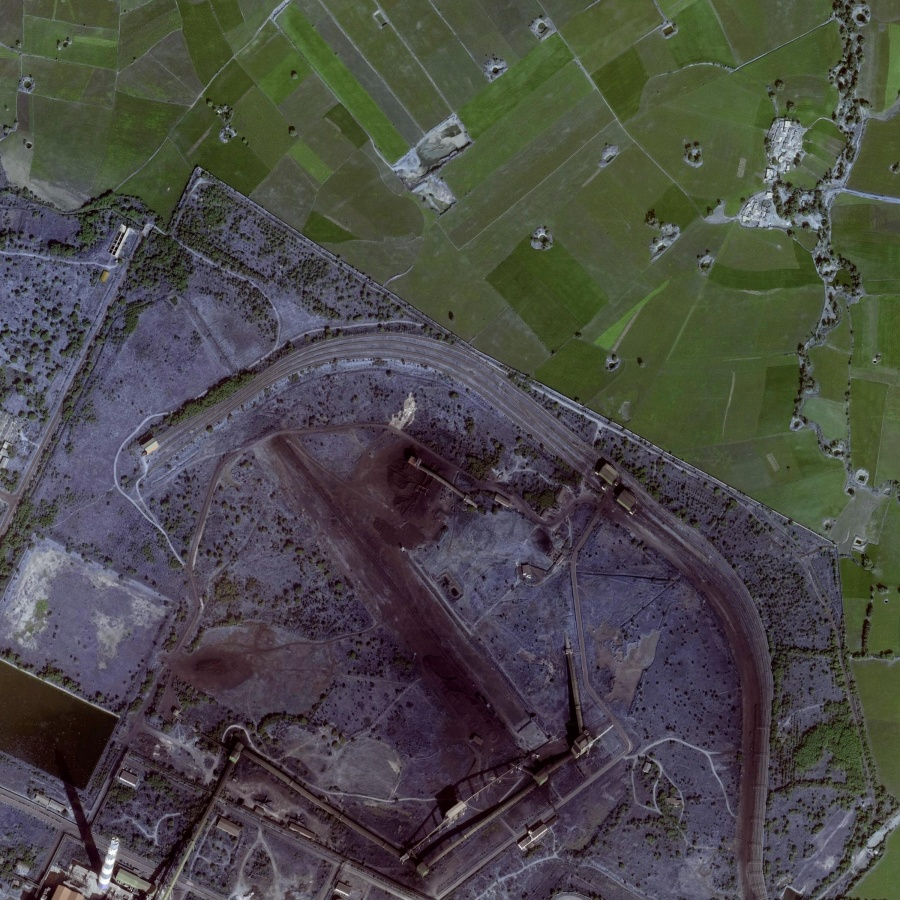PowerPlant: (230, 401, 556, 797)
